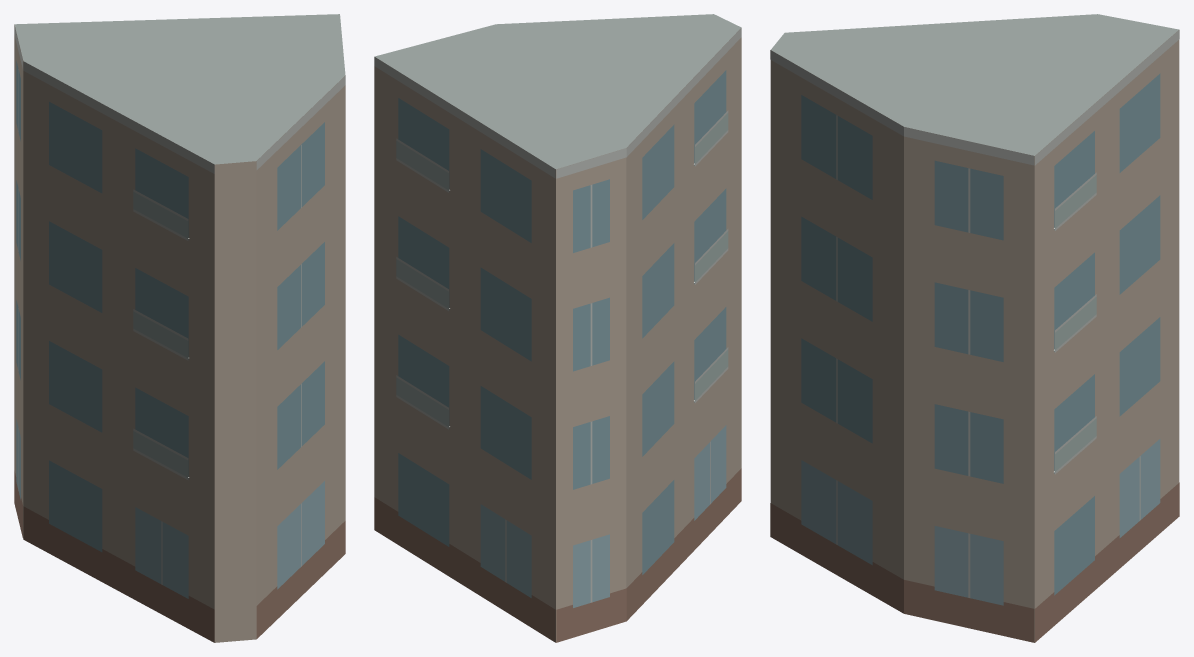
File: survey-upis-32475546.glb
The picture shows the model from 3 angles, left to right: view 1: azimuth 30°, elevation 25°; view 2: azimuth 150°, elevation 25°; view 3: azimuth 270°, elevation 25°; orthographic projection. The views are drawn at different scales.
Parts seen in each view (by area): view 1: survey-upis-32475546.tmp; view 2: survey-upis-32475546.tmp; view 3: survey-upis-32475546.tmp.
Part boxes in pixels (left/top/right/bottom): survey-upis-32475546.tmp: left=14, top=14, right=345, bottom=642; survey-upis-32475546.tmp: left=374, top=14, right=741, bottom=642; survey-upis-32475546.tmp: left=770, top=14, right=1179, bottom=642.
Size of the model in its own units: 7.64 by 12.2 by 9.29.
